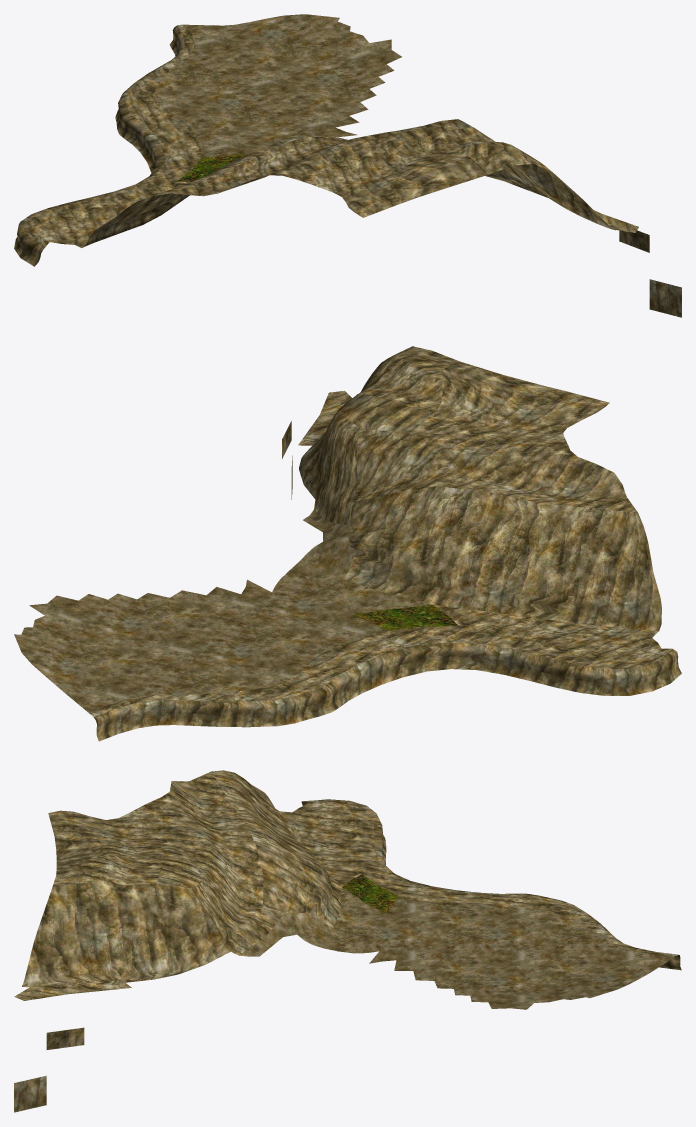
Rendered from RM_PLAYSURFACE_FINAL_OBJECT03.fbx.
3 renders of one model, top to bottom at view 1: azimuth 30°, elevation 25°; view 2: azimuth 150°, elevation 25°; view 3: azimuth 270°, elevation 25°, orthographic. The views are drawn at different scales.
Parts seen in each view (by area): view 1: RM_PLAYSURFACE_FINAL_OBJECT03; view 2: RM_PLAYSURFACE_FINAL_OBJECT03; view 3: RM_PLAYSURFACE_FINAL_OBJECT03.
Part boxes in pixels (x1,y1,x2,y2): RM_PLAYSURFACE_FINAL_OBJECT03: (14,14,681,317); RM_PLAYSURFACE_FINAL_OBJECT03: (14,346,681,741); RM_PLAYSURFACE_FINAL_OBJECT03: (14,770,681,1112).
Size of the model in its own units: 356676 by 121936 by 424048.
Materials: 5 (5 with a texture image).
